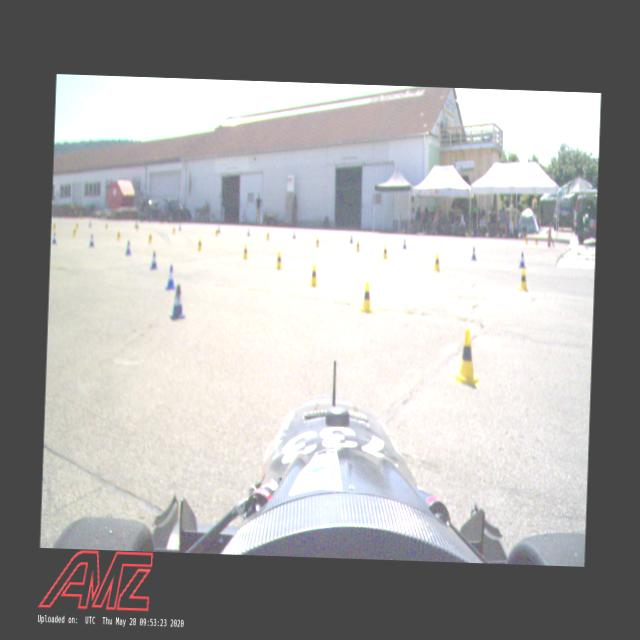blue_cone: (170, 284, 186, 320), (165, 264, 175, 291), (148, 248, 158, 270), (517, 250, 526, 268), (124, 238, 132, 255), (88, 229, 94, 246), (51, 231, 57, 244), (246, 228, 250, 236), (178, 224, 182, 232), (88, 219, 91, 227)
yellow_cone: (452, 324, 480, 383), (359, 280, 374, 312), (516, 268, 528, 292), (308, 262, 318, 286), (432, 252, 442, 272), (274, 251, 283, 268), (469, 243, 478, 260), (195, 236, 203, 252), (242, 243, 248, 259), (382, 242, 388, 258), (146, 229, 152, 243), (115, 227, 121, 240), (354, 239, 360, 252), (402, 236, 408, 249), (349, 232, 355, 245), (315, 234, 320, 248), (71, 227, 77, 237), (291, 228, 296, 240), (265, 229, 270, 240), (51, 222, 56, 230), (104, 222, 108, 230), (215, 227, 218, 237), (171, 226, 175, 233)
